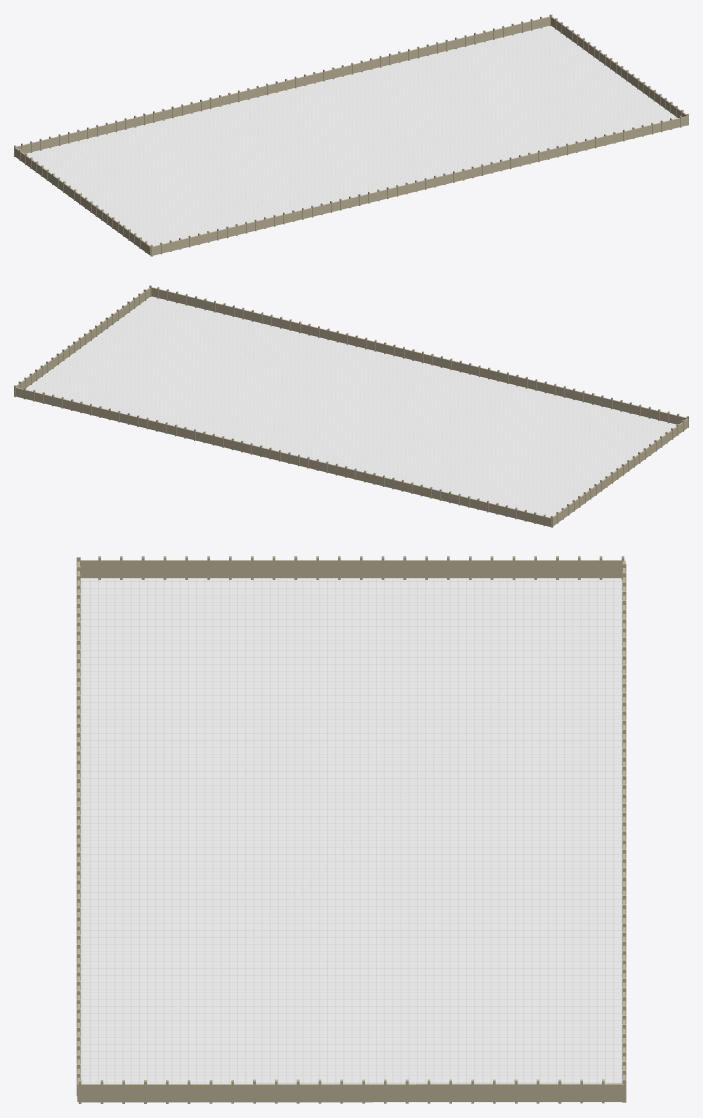
File: Unity2GLTF.gltf
The picture shows the model from 3 angles, top to bottom: view 1: azimuth 30°, elevation 25°; view 2: azimuth 150°, elevation 25°; view 3: azimuth 270°, elevation 25°; orthographic projection. The views are drawn at different scales.
Parts seen in each view (by area): view 1: node_CombineFloor_-61724, node_CombinePrefabWall_-61712; view 2: node_CombineFloor_-61724, node_CombinePrefabWall_-61712; view 3: node_CombineFloor_-61724, node_CombinePrefabWall_-61712.
Boxes of the visible parts, x1,y1,x2,y2 form: node_CombineFloor_-61724: [27, 26, 686, 255]; node_CombinePrefabWall_-61712: [14, 14, 688, 256]; node_CombineFloor_-61724: [16, 297, 676, 527]; node_CombinePrefabWall_-61712: [14, 285, 688, 527]; node_CombineFloor_-61724: [80, 579, 622, 1102]; node_CombinePrefabWall_-61712: [76, 556, 626, 1103].
Bounding box in the file's own units: 91.27 × 1.8 × 40.33.
Materials: 2 (2 with a texture image).
